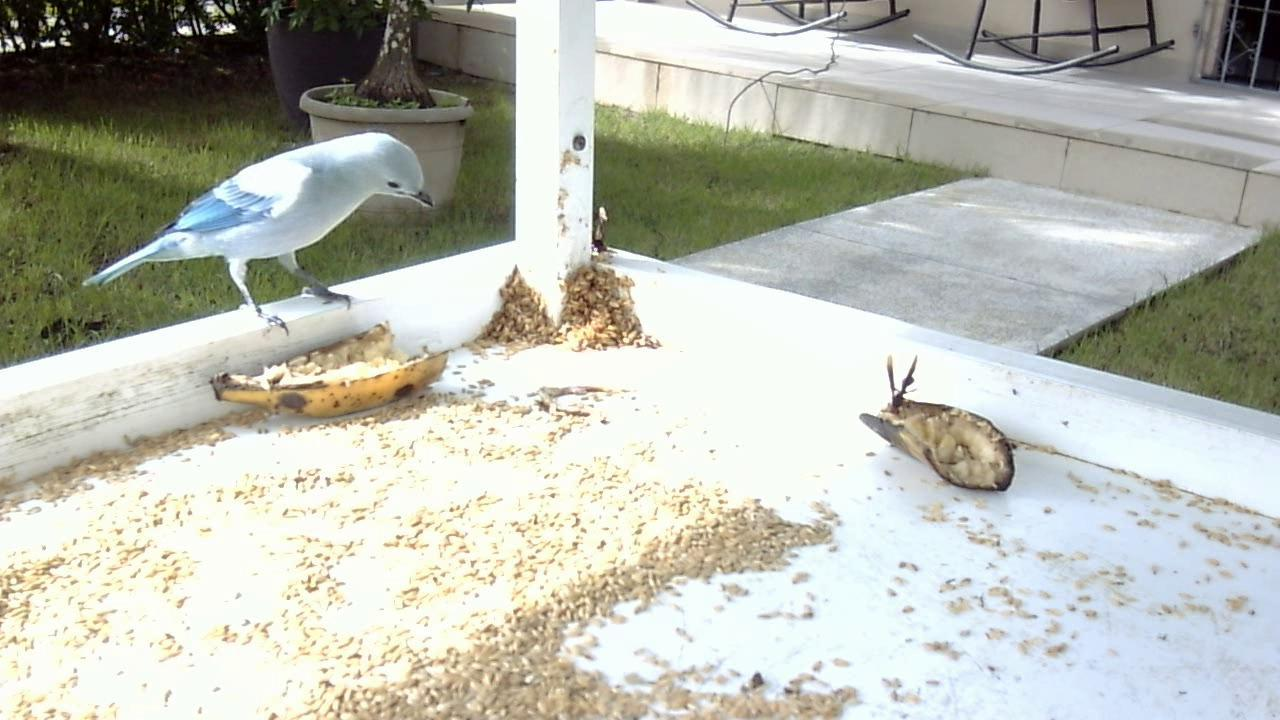sanhaco_da_amazonia: (83, 127, 436, 340)
